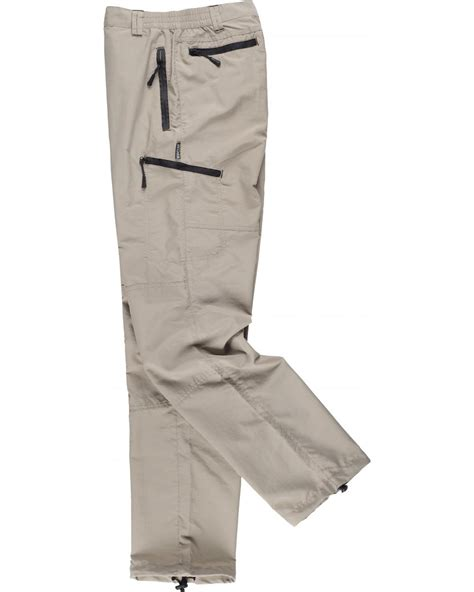nylon: (102, 3, 372, 585)
